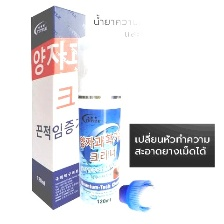aerosol_cans: (74, 32, 124, 217)
book: (28, 3, 88, 212)
